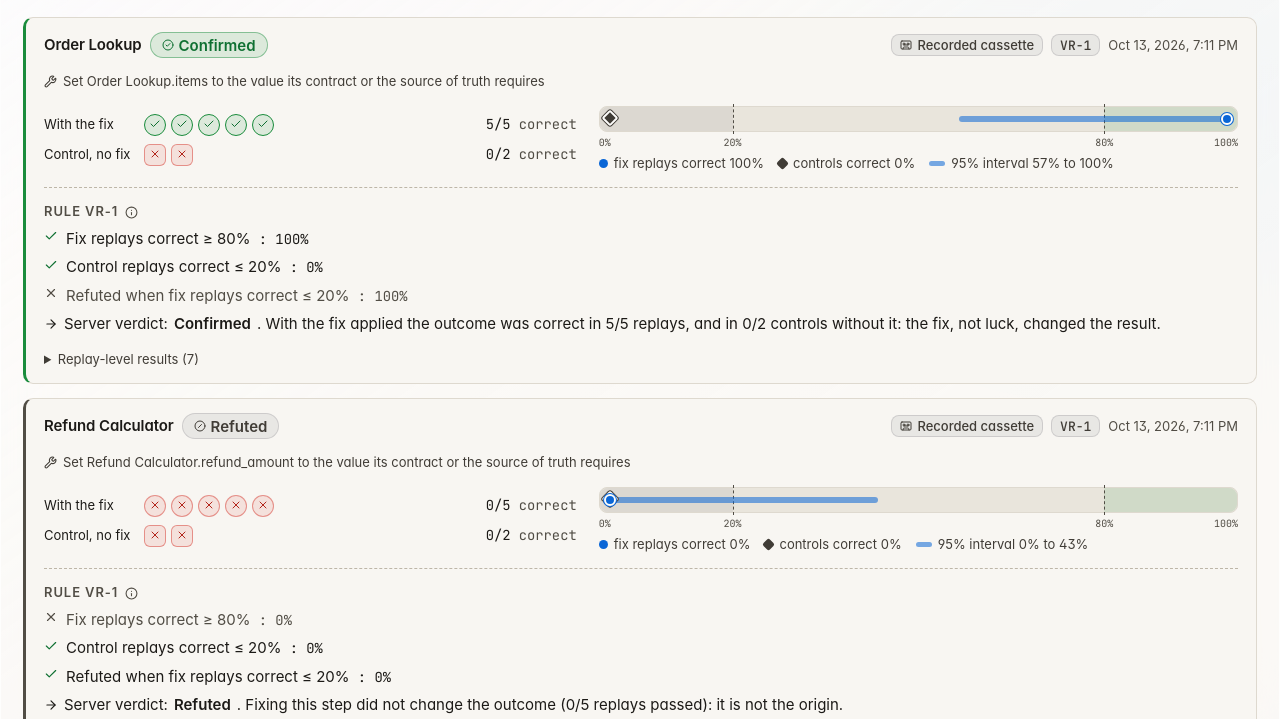
Test: verification results › lists every replay with its seed, the checks it fixed and its final output
(page scrolled)
Click the heading "Replay-level results (7)" at [128, 358], box [58,350,199,366]
(page scrolled)
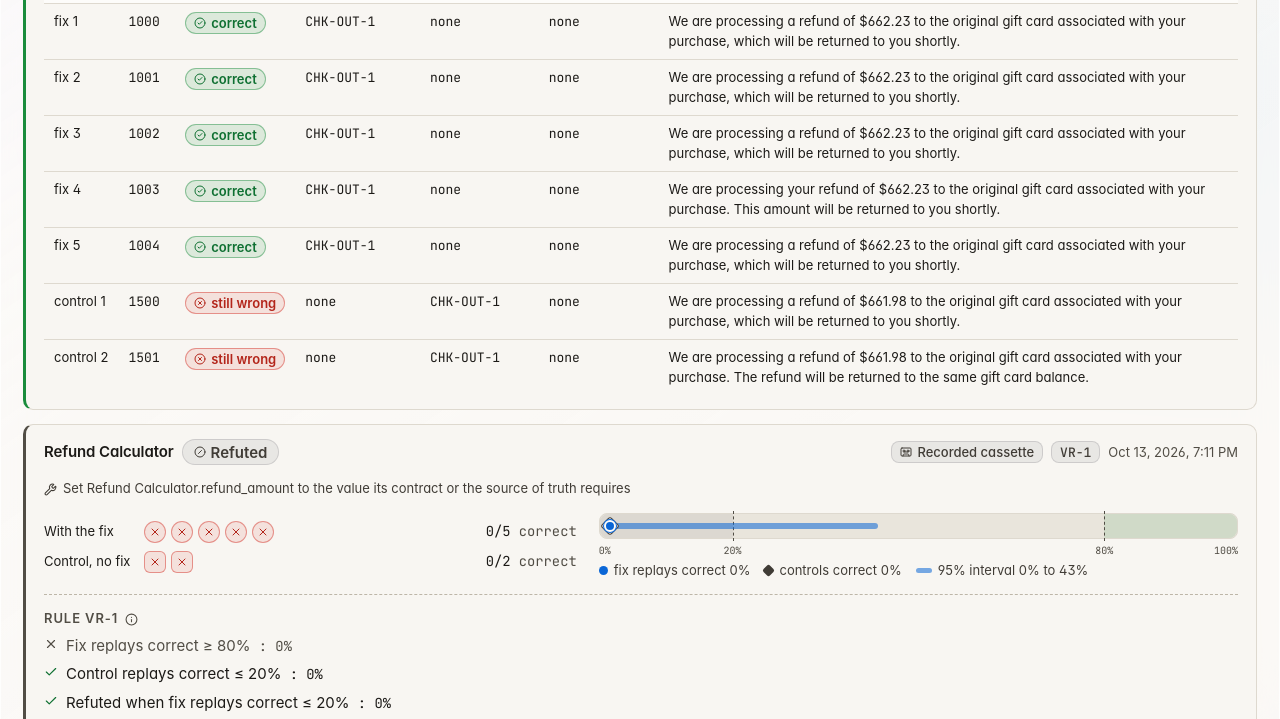
Expected: the text "1000" is shown, [118,4,175,60]
Expected: the text "CHK-OUT-1" is shown once, [295,4,420,60]
Expected: the text "refund of $662.23" in the row of "1000" is shown, [668,13,1186,49]
